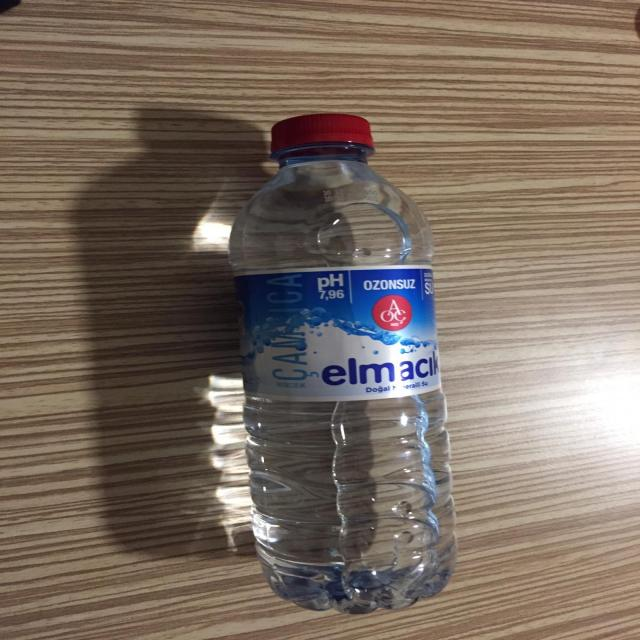bottle: (214, 98, 480, 640)
